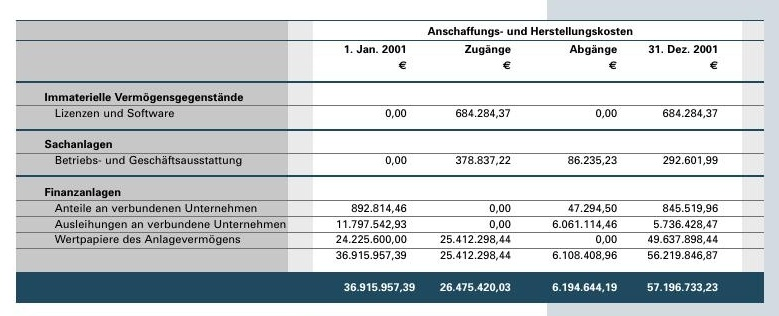table: (0, 0, 779, 316)
